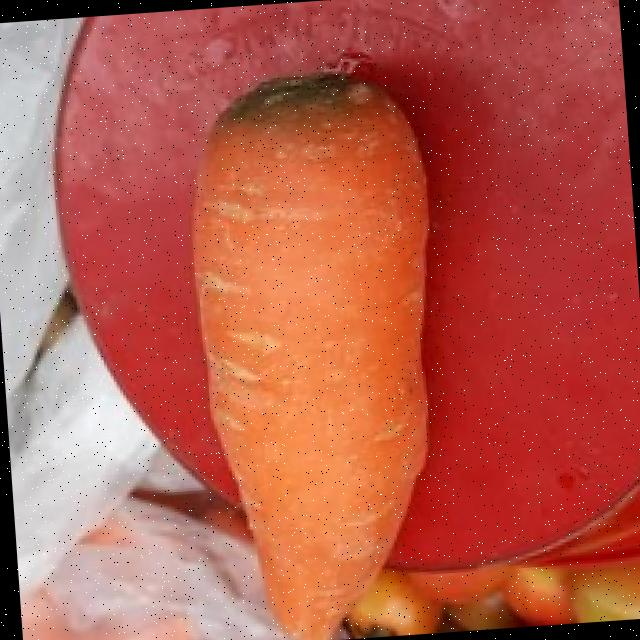carrot: (192, 77, 427, 640)
